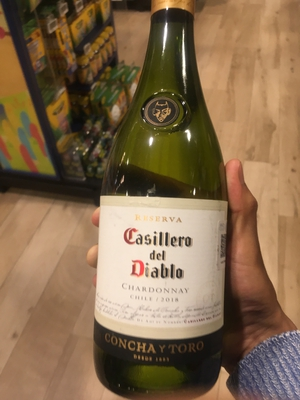casillero del diablo chardonnay: (92, 8, 234, 400)
